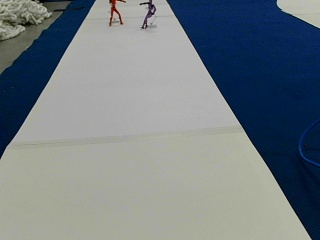pedestrian: (138, 0, 156, 28), (108, 0, 125, 25)
